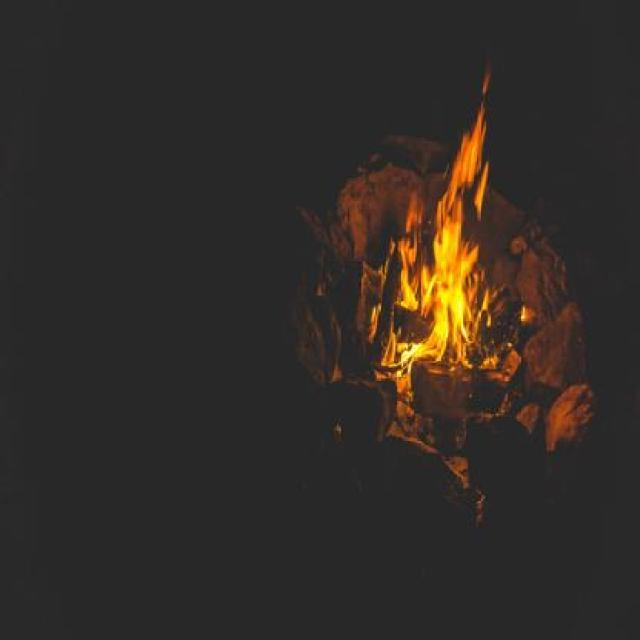Fire: (342, 70, 502, 402)
